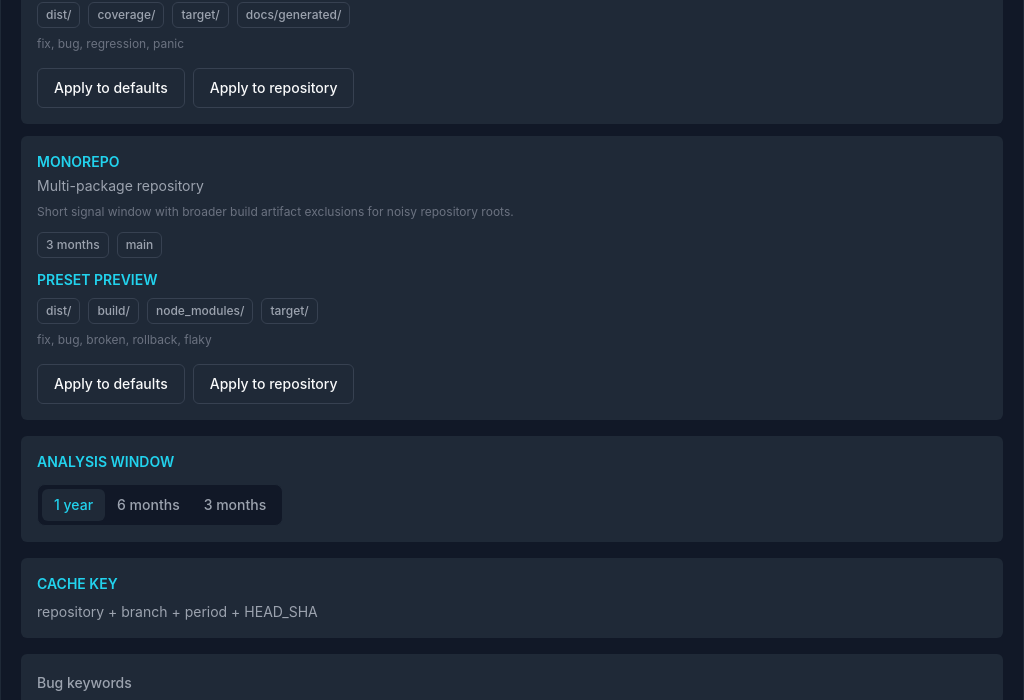
Scenario: SettingsPage › applies a preset to the current repository override
(page scrolled)
Click the button "Apply to repository" below "fix, bug, broken, rollback, flaky" at point(274, 384), box x1=193 y1=364 x2=354 y2=404
(page scrolled)
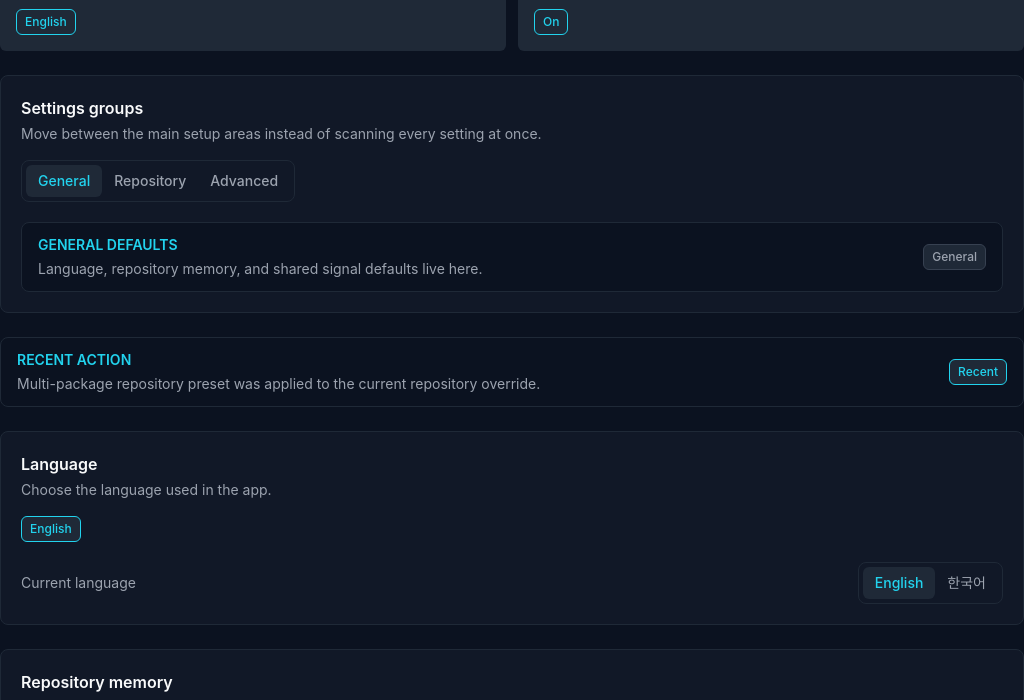
Now the text "Multi-package repository preset was applied to the current repository override." is shown, box x1=17 y1=374 x2=540 y2=394
